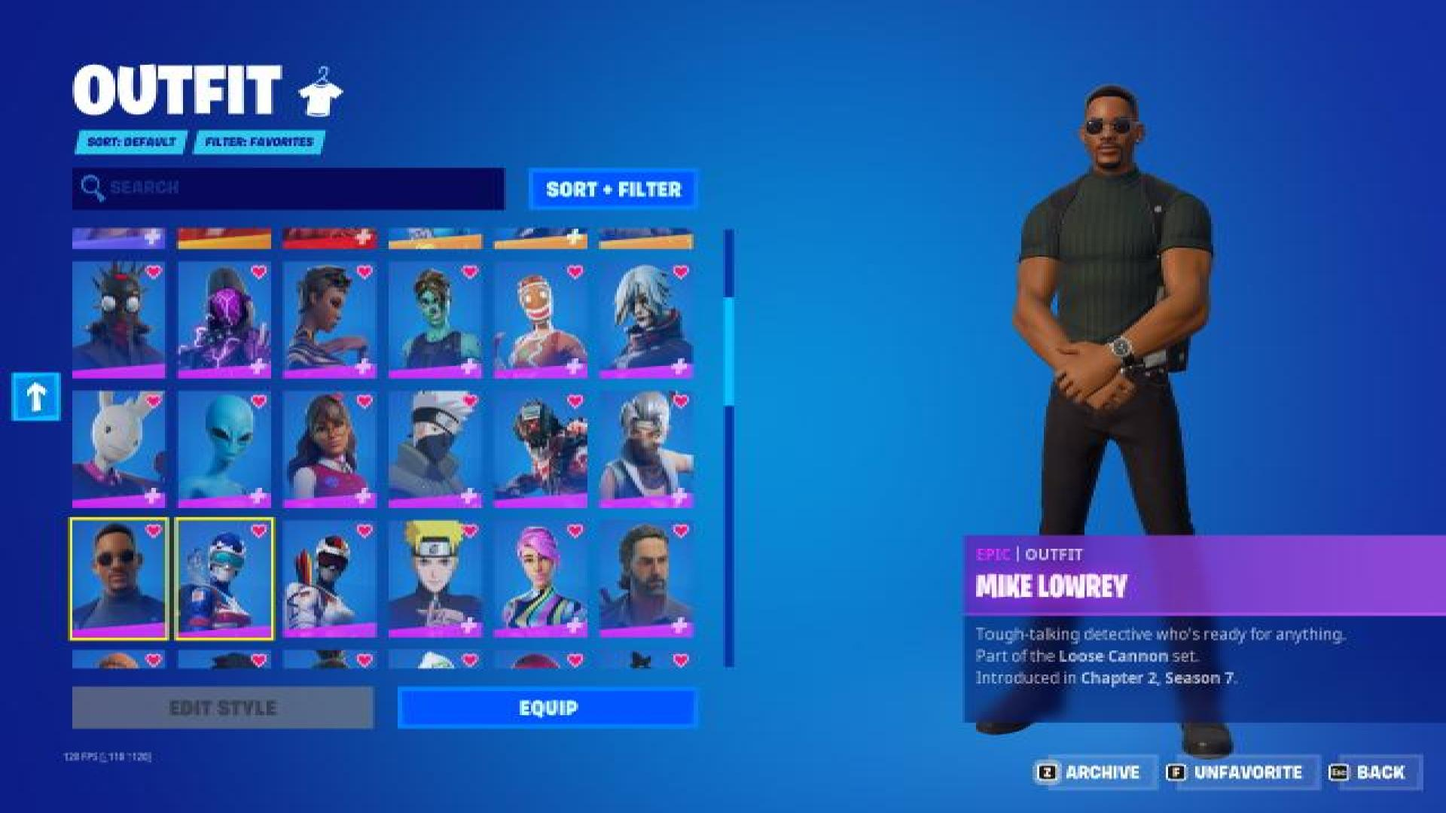player: (944, 81, 1295, 763)
